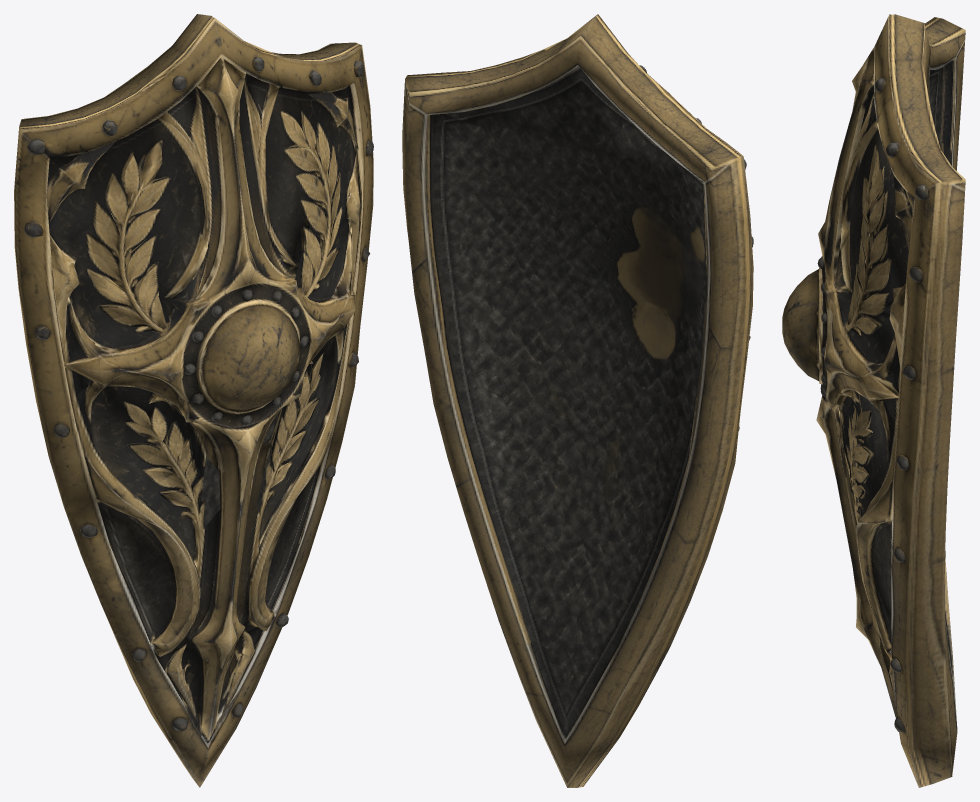
The model's file is shield.glb.
3 views of the same model, side by side, from view 1: azimuth 30°, elevation 25°; view 2: azimuth 150°, elevation 25°; view 3: azimuth 270°, elevation 25° (orthographic). The views are drawn at different scales.
Bounding box in the file's own units: 0.5744 × 1.2 × 0.258.
Materials: 1 (1 with a texture image).
